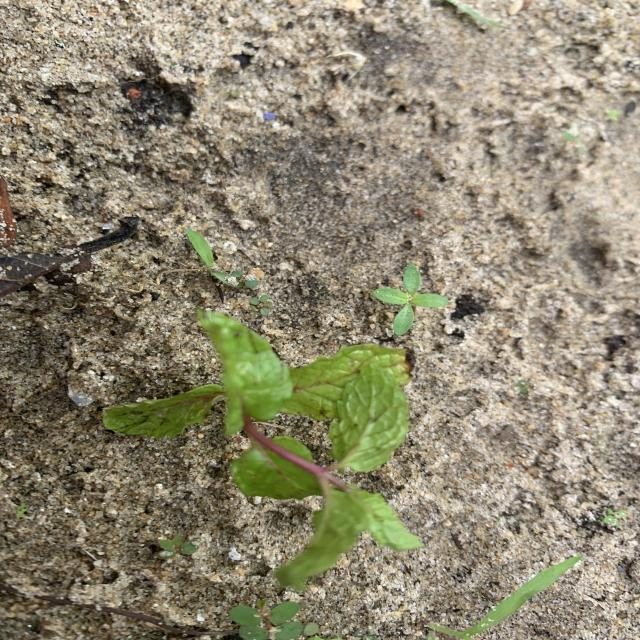crop: (109, 310, 420, 592)
weed: (428, 556, 582, 640), (373, 264, 449, 332), (186, 229, 259, 288), (231, 600, 311, 639), (444, 1, 505, 27), (158, 535, 198, 559), (602, 508, 627, 526), (250, 294, 271, 314), (605, 109, 622, 121)
